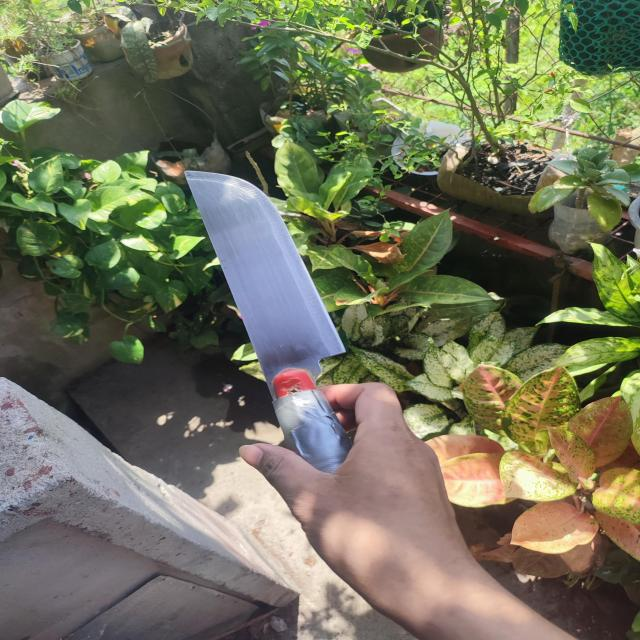knife: (185, 171, 354, 469)
